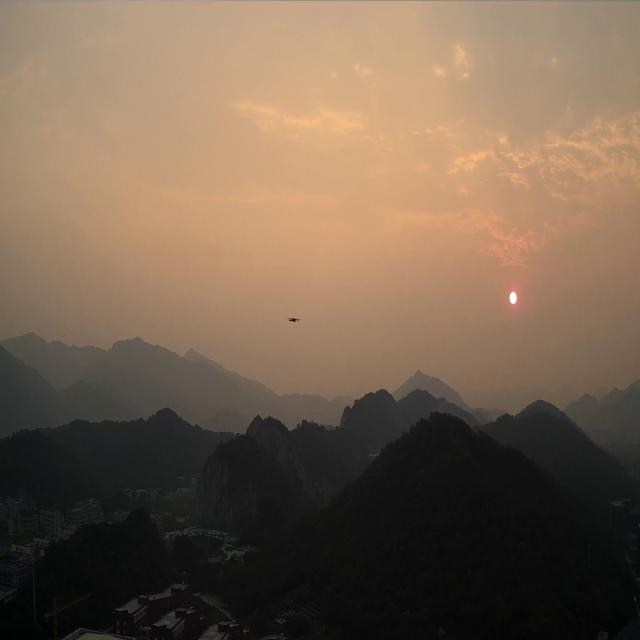UAV: (287, 316, 301, 323)
